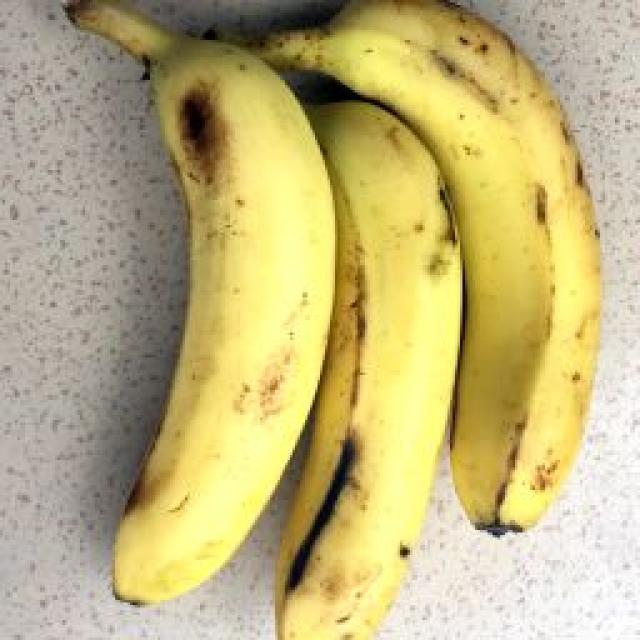banana: (63, 122, 615, 552)
